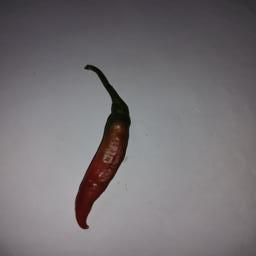Buah Cabai Sehat: (73, 100, 131, 230)
